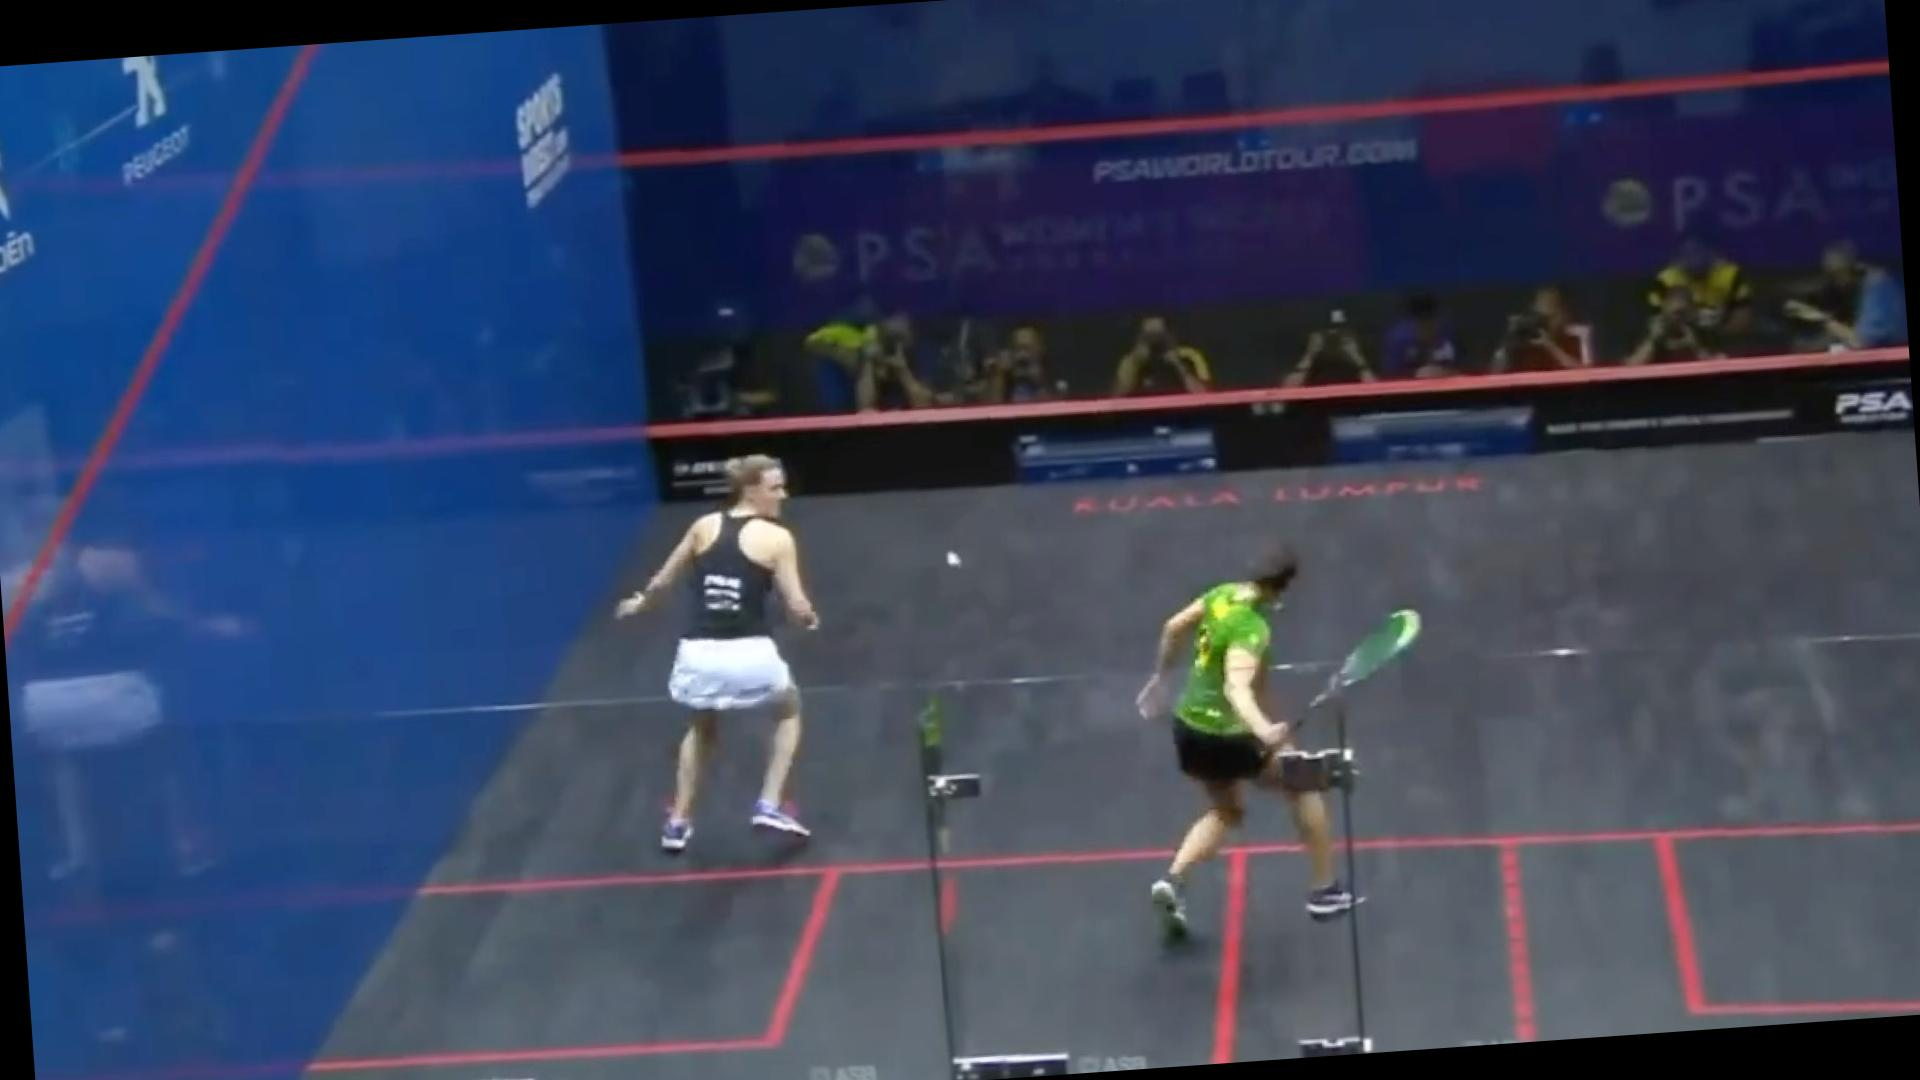Squash-Ball: (938, 538, 976, 579)
